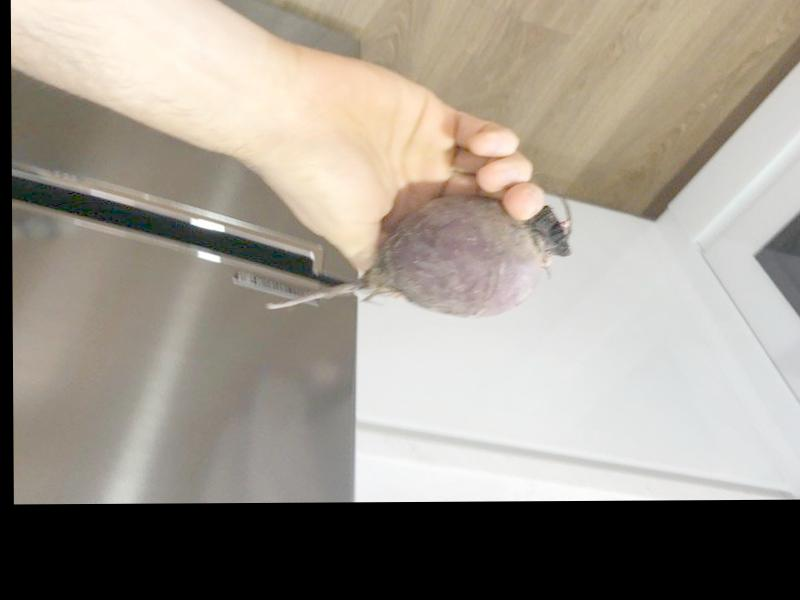Beet: (267, 195, 574, 318)
